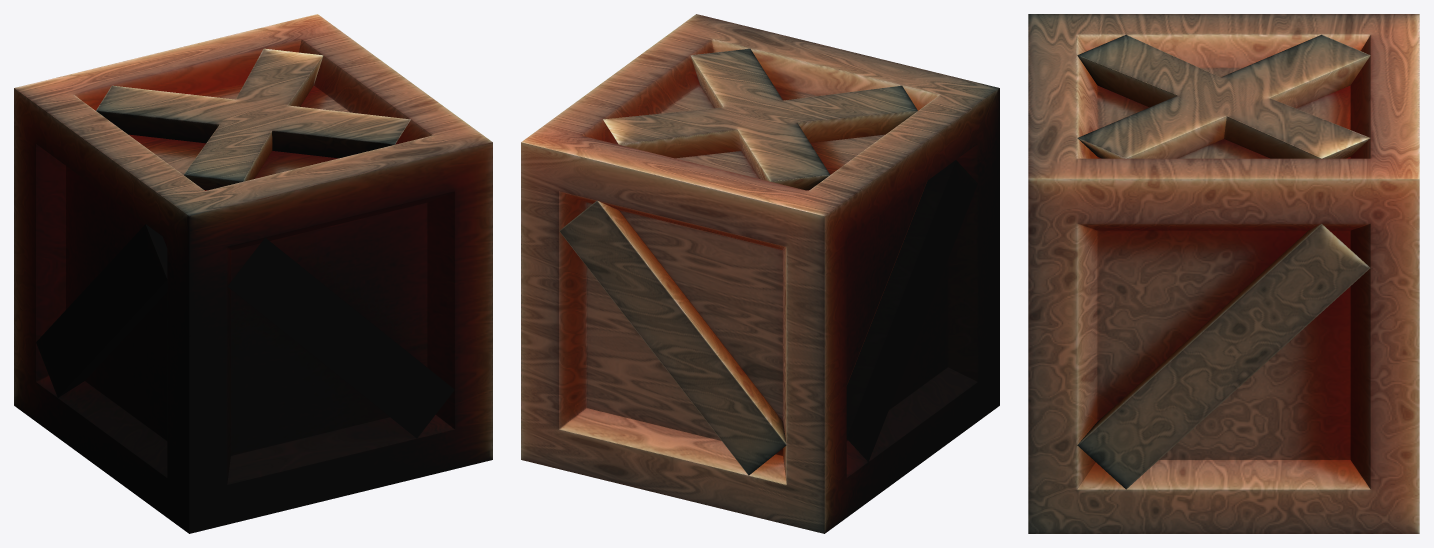
File: BoxModel.fbx
3 views of the same model, side by side, from view 1: azimuth 30°, elevation 25°; view 2: azimuth 150°, elevation 25°; view 3: azimuth 270°, elevation 25° (orthographic). The views are drawn at different scales.
Parts seen in each view (by area): view 1: Cube.002; view 2: Cube.002; view 3: Cube.002.
Part boxes in pixels (box(x1,y1,x2,y2)): Cube.002: box(14, 14, 492, 533); Cube.002: box(521, 14, 999, 533); Cube.002: box(1028, 14, 1419, 533).
Bounding box in the file's own units: 133 × 133 × 133.
